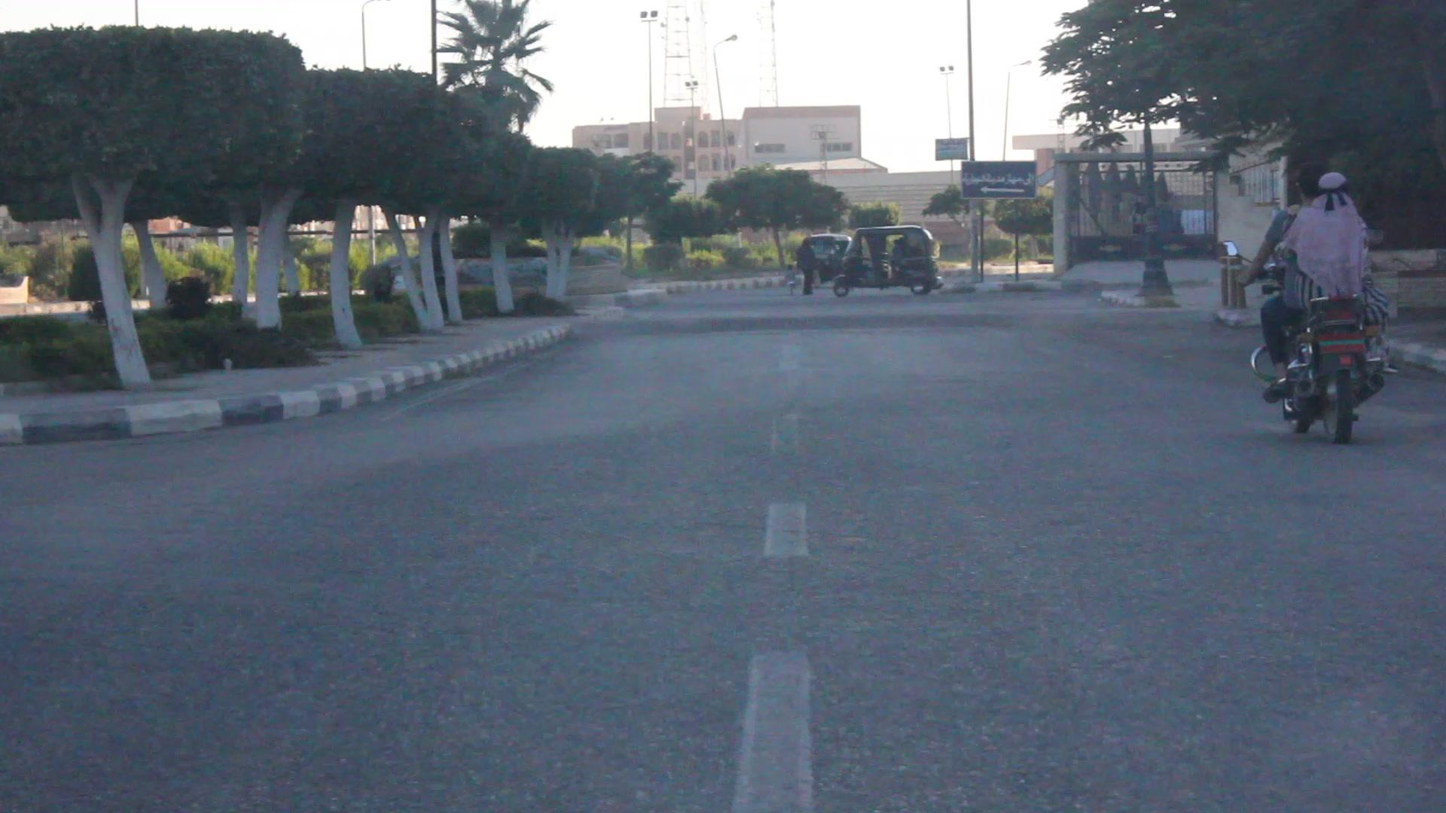Bump: (567, 308, 1225, 338)
